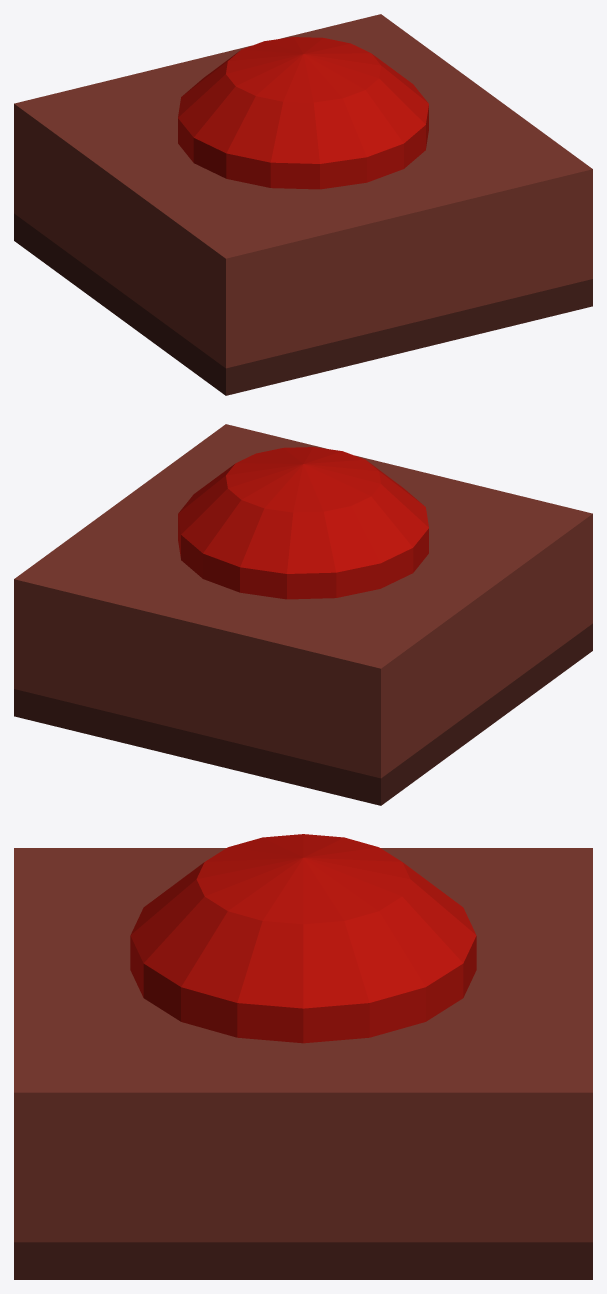
File: landing-light.glb
The picture shows the model from 3 angles, top to bottom: view 1: azimuth 30°, elevation 25°; view 2: azimuth 150°, elevation 25°; view 3: azimuth 270°, elevation 25°; orthographic projection. The views are drawn at different scales.
Parts seen in each view (by area): view 1: landing-light; view 2: landing-light; view 3: landing-light.
Part boxes in pixels (x1,y1,x2,y2): landing-light: [14, 14, 592, 395]; landing-light: [14, 424, 592, 805]; landing-light: [14, 834, 592, 1279].
Size of the model in its own units: 7 by 4 by 7.
